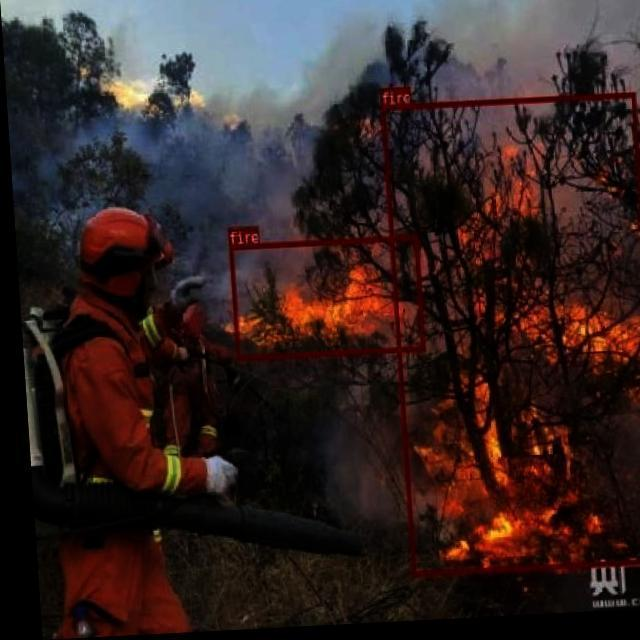Fire: (392, 138, 640, 574), (226, 252, 413, 370)
Smoke: (71, 0, 640, 269)
